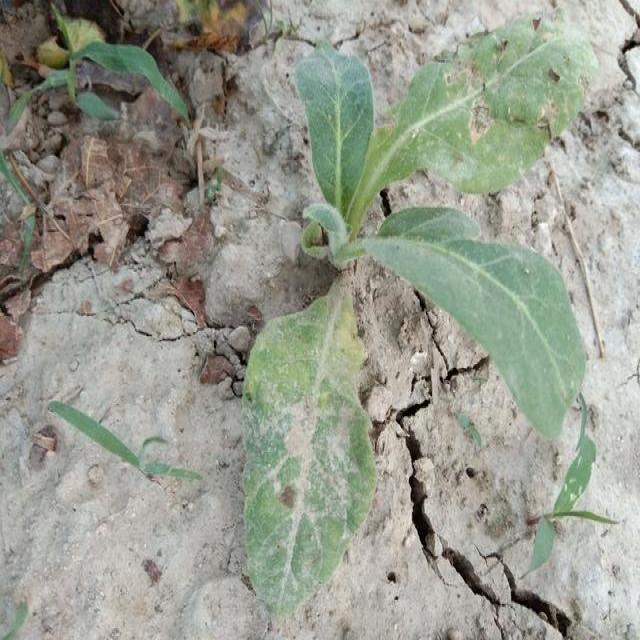crop: (234, 16, 587, 598)
